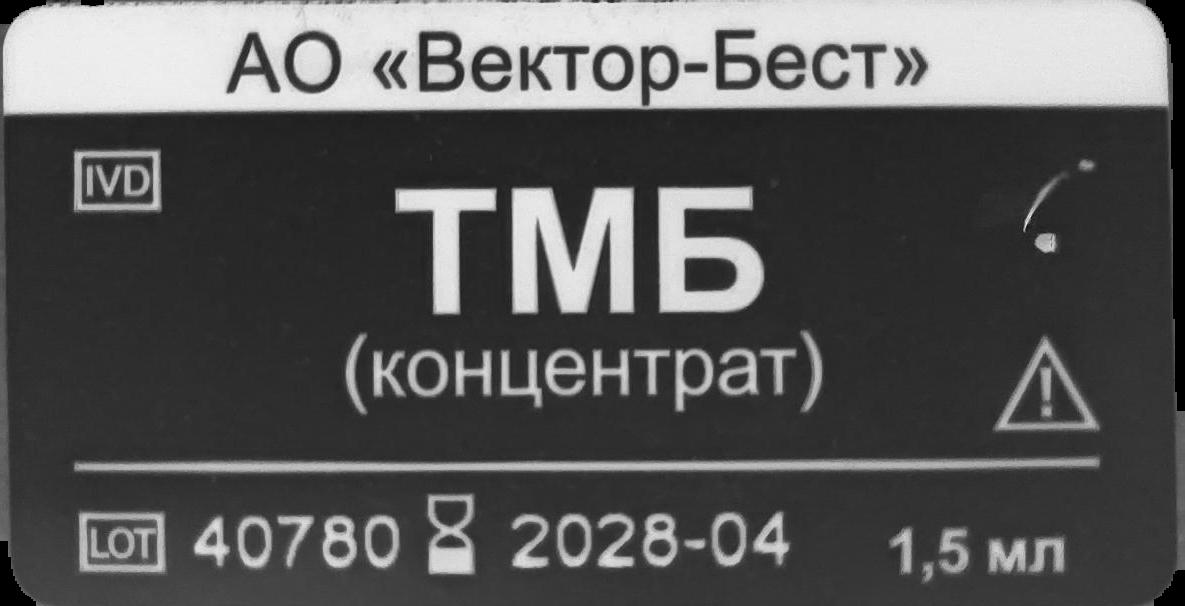something: (994, 331, 1101, 435), (71, 146, 164, 215), (78, 508, 170, 574), (427, 490, 479, 579)
text: (340, 174, 834, 422), (220, 20, 938, 112), (507, 507, 796, 574), (196, 509, 406, 578), (884, 522, 1070, 598)
